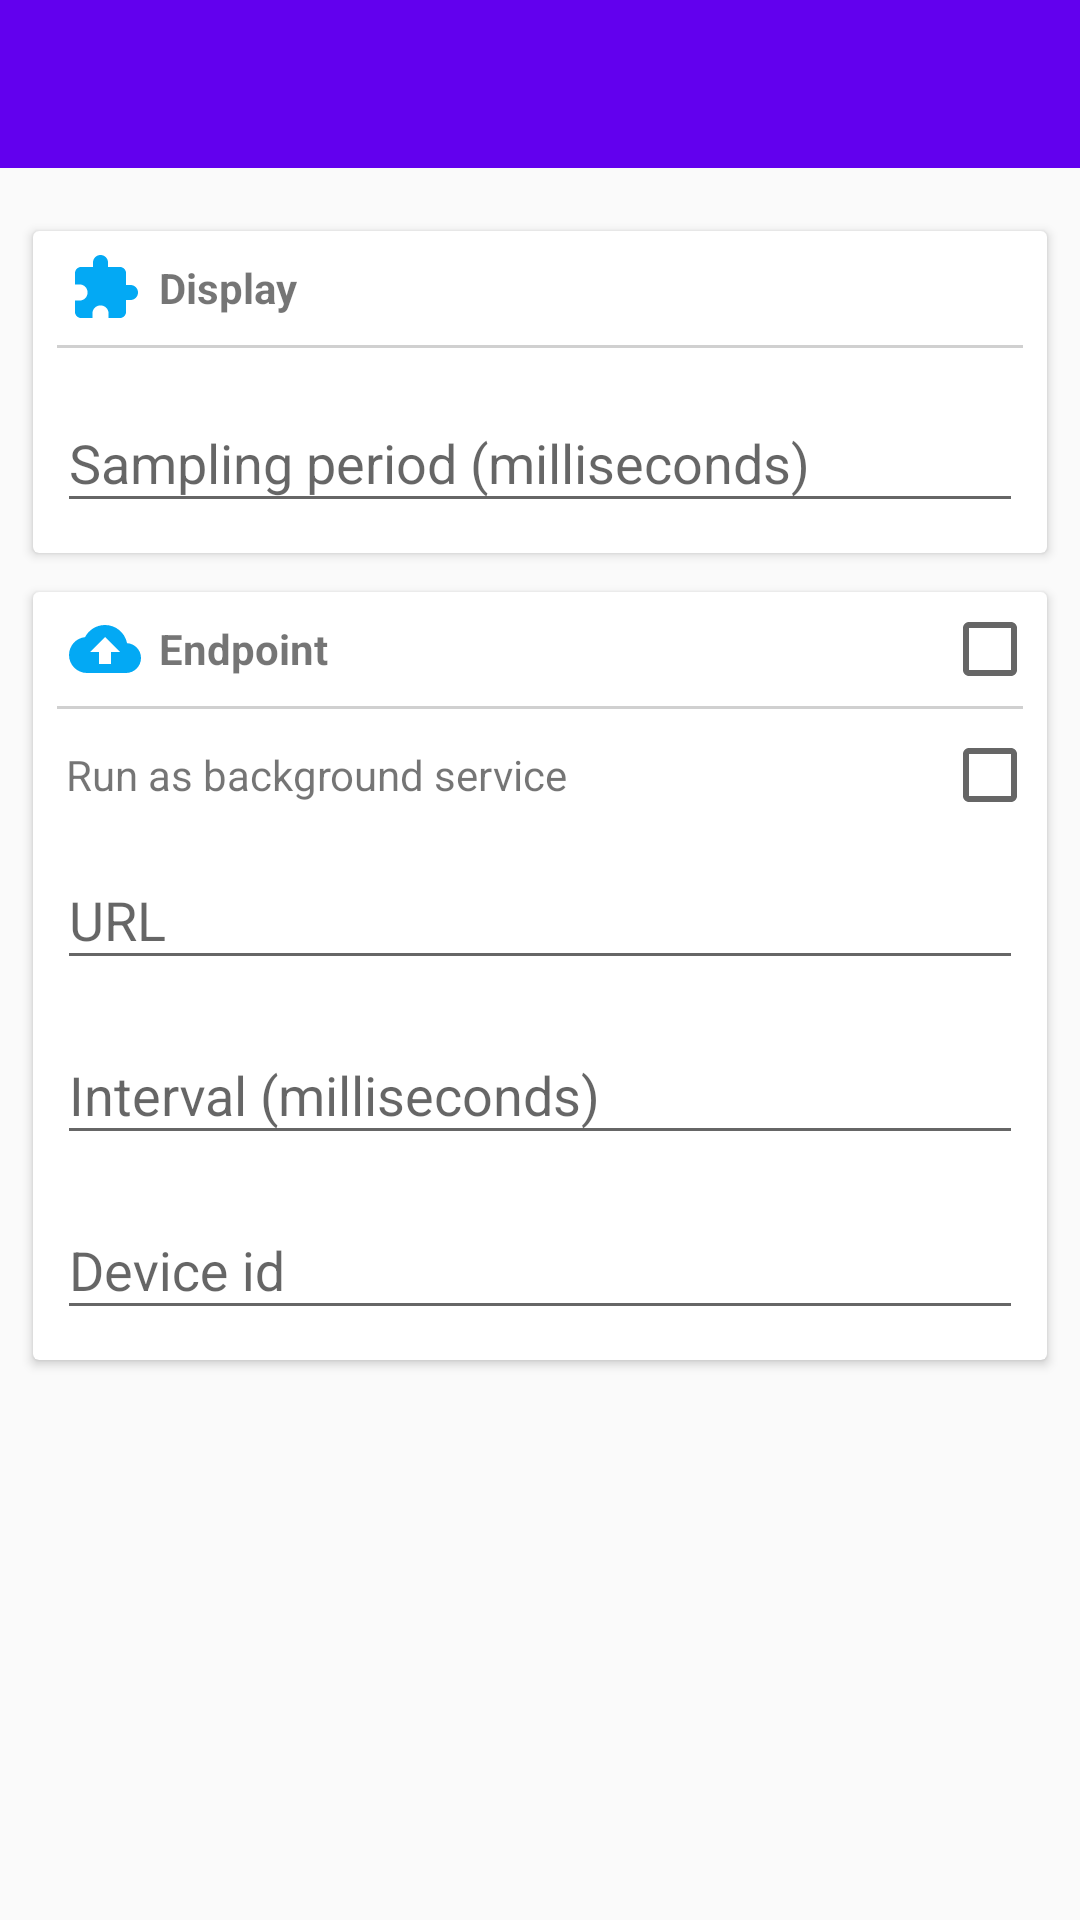

Icon bounding boxes for this 1080px x 1920px phone screenshot, format detection(x1, y1, x2, y2):
cloud upload: detection(69, 625, 141, 673)
extension: detection(75, 255, 138, 318)
